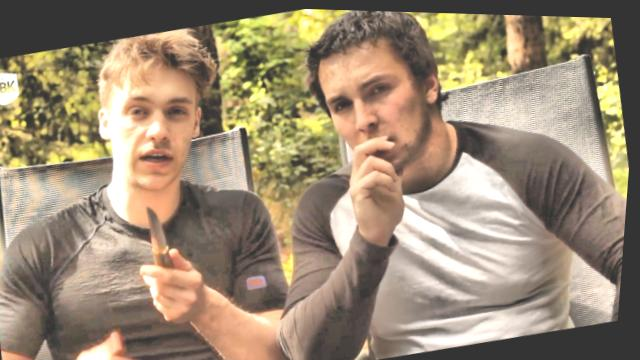knife: (112, 185, 218, 309)
